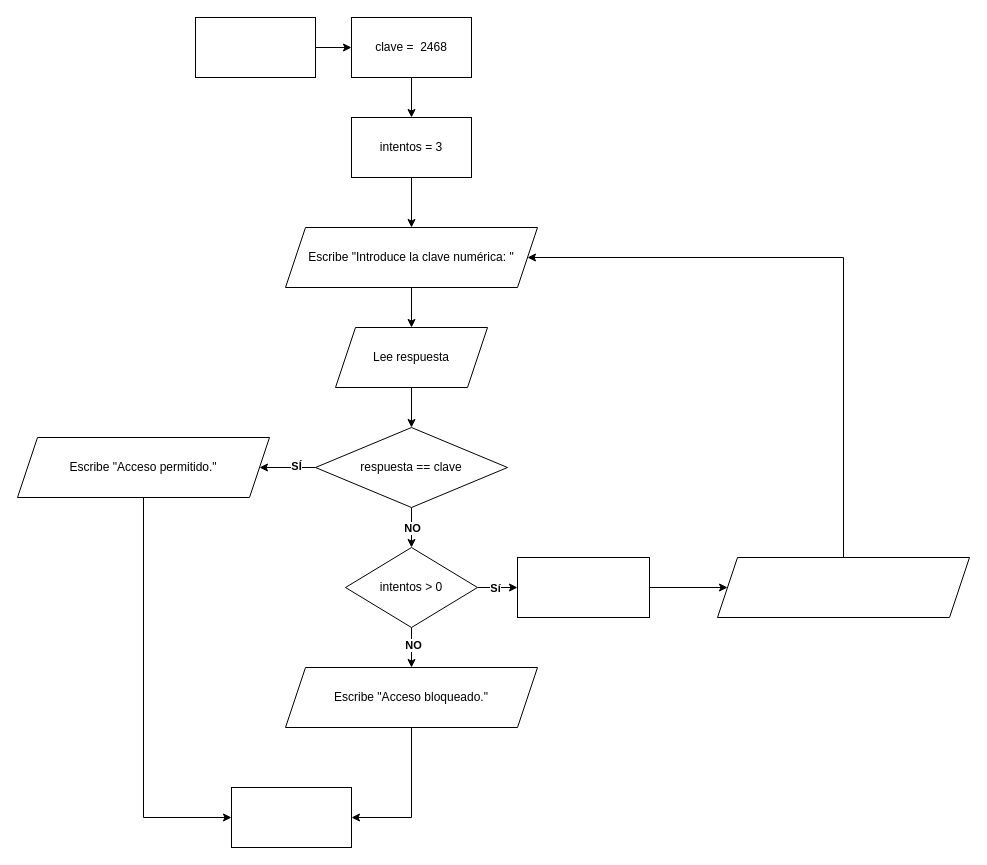
This 987x865 diagram has some shape labels left out. The centre of each missing label's shape, as x and y in pixels:
Escribe "Clave incorrecta. Intentos restantes: " + intentos: the point at 843,587
FIN: the point at 291,817
INICIO: the point at 255,47
intentos = intentos - 1: the point at 583,587
